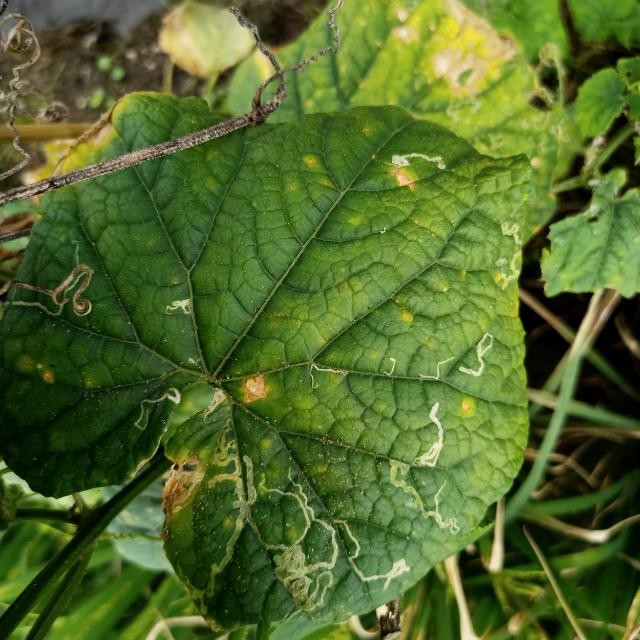disease_cucumber: (242, 372, 269, 406), (22, 358, 55, 382), (392, 166, 419, 191), (460, 396, 473, 413)
